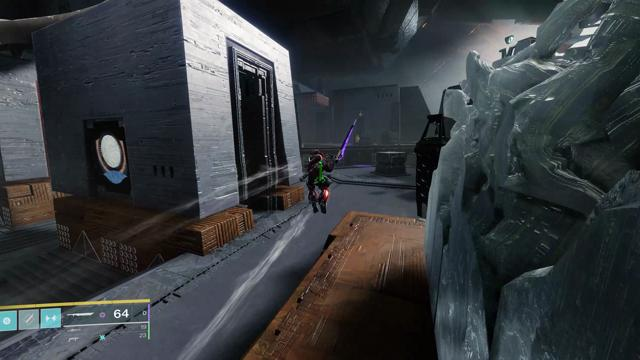traveler: (93, 131, 131, 185)
